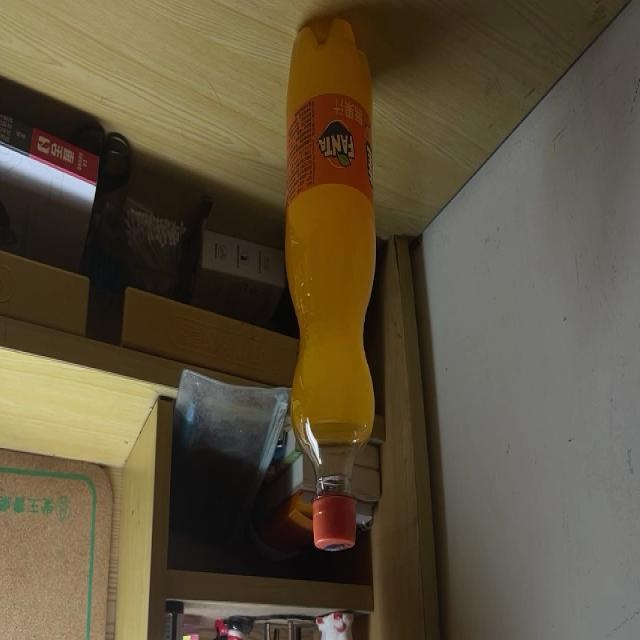Fanta: (284, 21, 378, 552)
